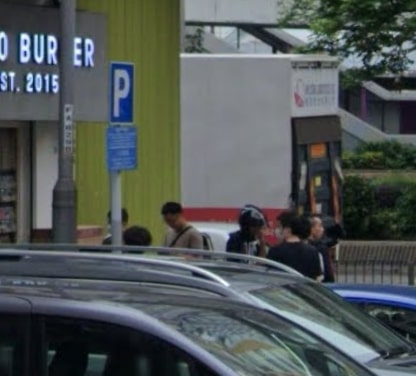Parking: (103, 64, 141, 172)
